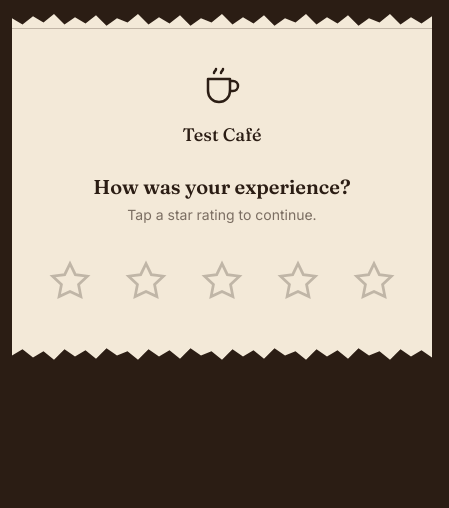
Test case: ReviewFlow › routes ratings 4-5 to the tag-selection screen
Click the radio button named "5 stars - excellent".
click(374, 281)  # box 342,249 -> 406,313
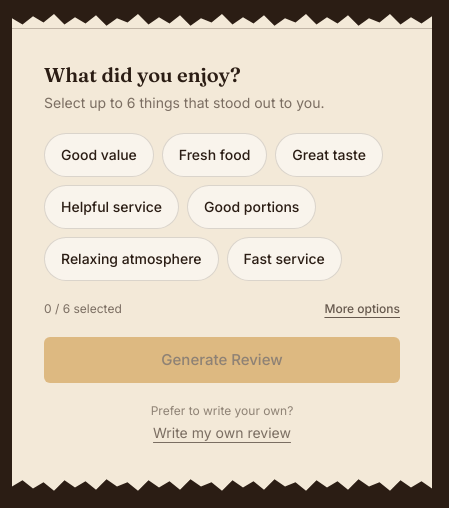
Now the heading "What did you enjoy?" is shown, box 44,62 -> 241,87
